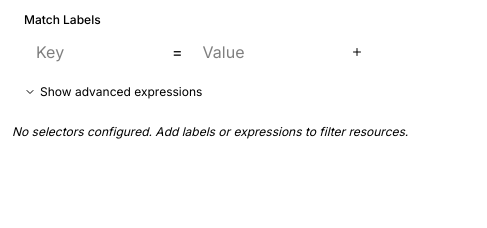
Test case: K8sLabelSelector › should toggle advanced expressions section
This screenshot has width=487, height=228.
# Find and click the toggle button
Click the button "Show advanced expressions": (113, 92) [24,84,202,100]
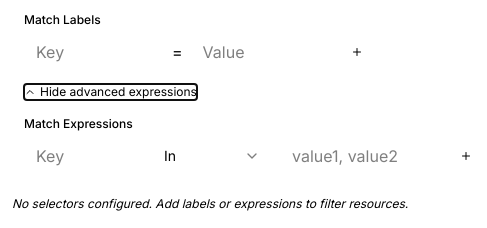
Result: the text "Match Expressions" is shown at [24,116,133,131]
# Toggle back
Click the button "Hide advanced expressions": (110, 92) [24,84,197,100]
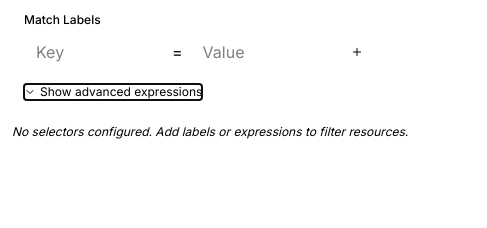
Result: the text "Match Expressions" is gone
